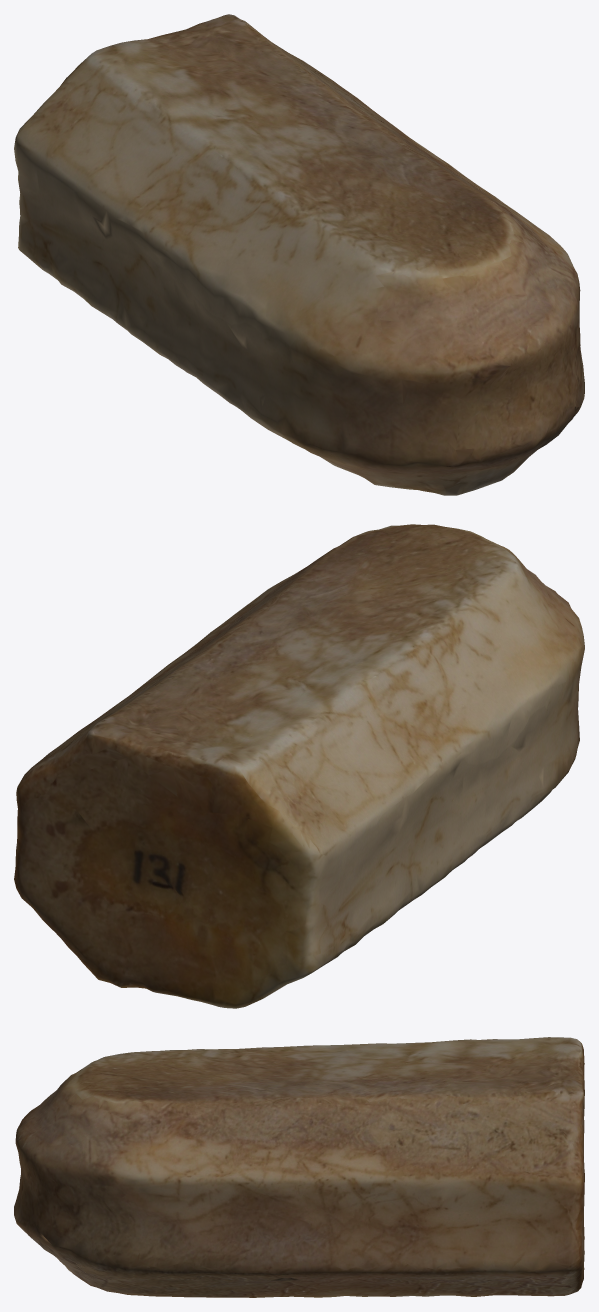
Rendered from marker2.glb.
3 renders of one model, top to bottom at view 1: azimuth 30°, elevation 25°; view 2: azimuth 150°, elevation 25°; view 3: azimuth 270°, elevation 25°, orthographic. The views are drawn at different scales.
Visible parts, largest first — view 1: pawn131; view 2: pawn131; view 3: pawn131.
Boxes of the visible parts, bbox=[...] form: pawn131: bbox=[14, 14, 584, 495]; pawn131: bbox=[14, 524, 584, 1008]; pawn131: bbox=[14, 1037, 584, 1297].
Bounding box in the file's own units: 0.7597 × 0.5967 × 1.49.
1 material, 1 textured.
